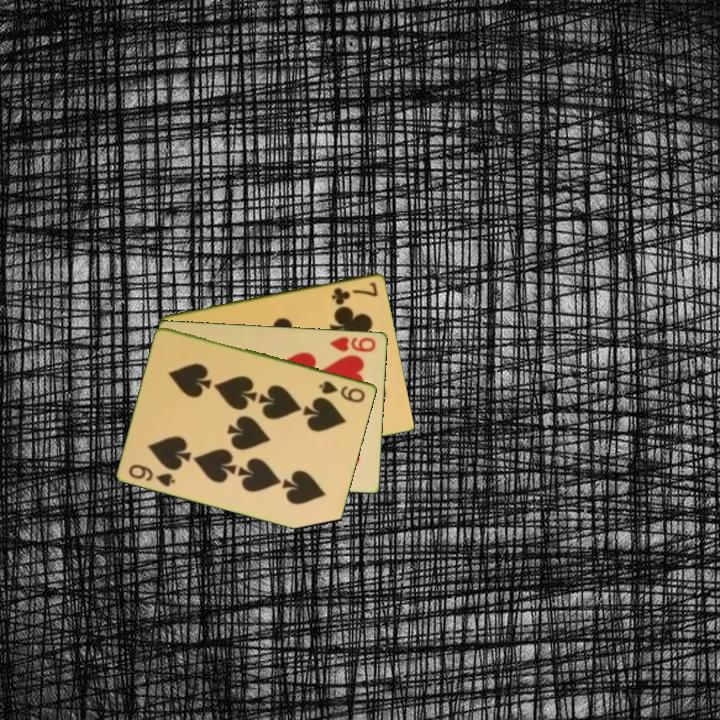7c: (328, 278, 381, 307)
9h: (326, 333, 379, 355)
9s: (125, 460, 179, 489), (316, 377, 368, 405)
